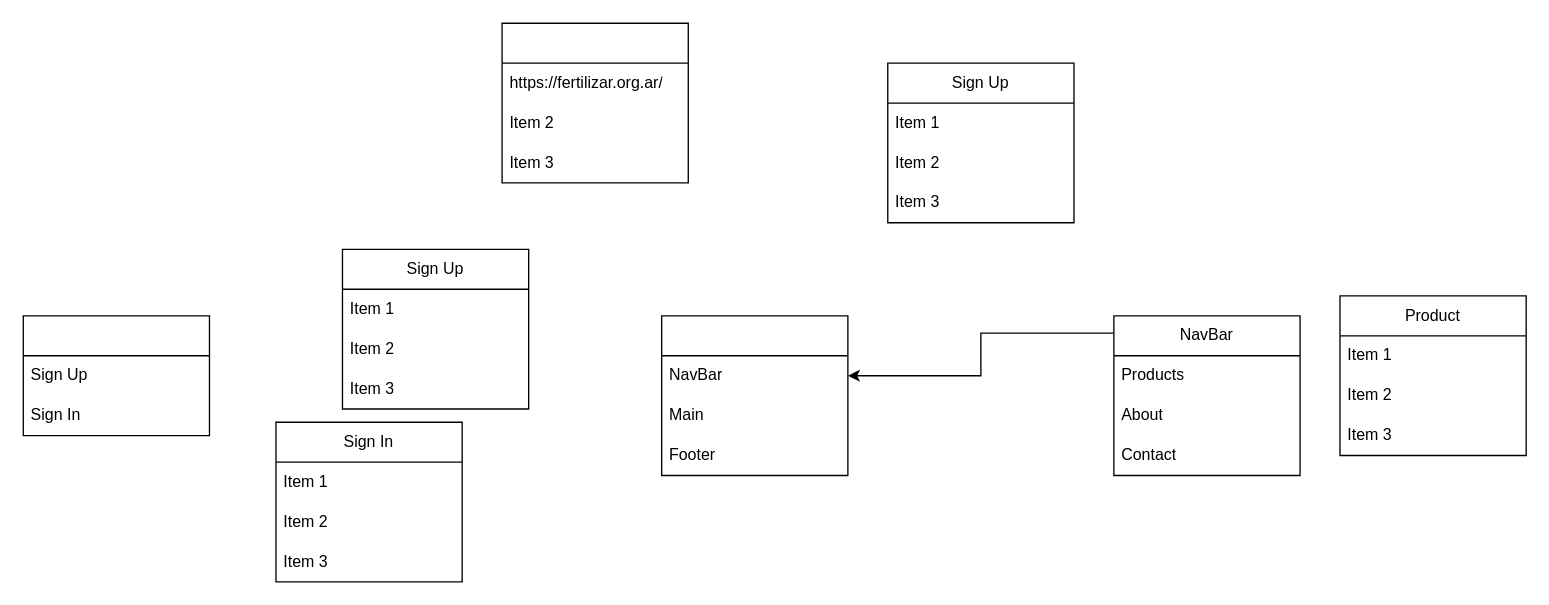
This 1549x605 diagram has some shape labels left out. Here are the shapes that lost their labels. From the top down, the box of each, then its label:
(501, 22, 688, 183): Model Pages
(22, 315, 209, 436): Landing
(660, 315, 848, 475): Home
